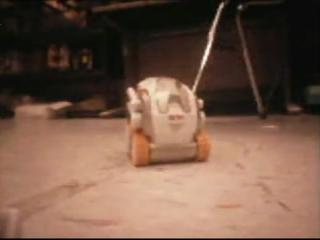cozmo: (124, 74, 210, 166)
